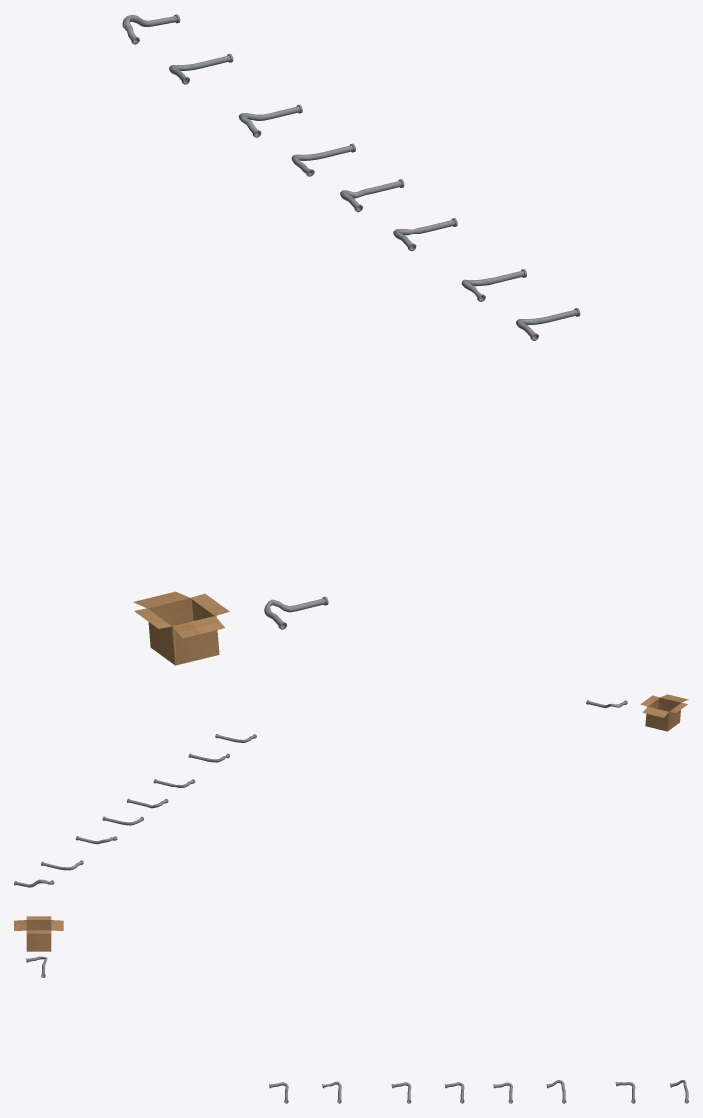
The model's file is COMPUTER (3) 1.fbx.
The picture shows the model from 3 angles, top to bottom: view 1: azimuth 30°, elevation 25°; view 2: azimuth 150°, elevation 25°; view 3: azimuth 270°, elevation 25°; orthographic projection. The views are drawn at different scales.
Visible parts, largest first — view 1: Cube.023; view 2: Cube.023; view 3: Cube.023.
Boxes of the visible parts, box(x1,y1,x2,y2) form: Cube.023: box(133, 591, 229, 665); Cube.023: box(640, 694, 688, 731); Cube.023: box(14, 916, 63, 951).
Size of the model in its own units: 2262 by 137 by 3892.
2 materials, 2 textured.
